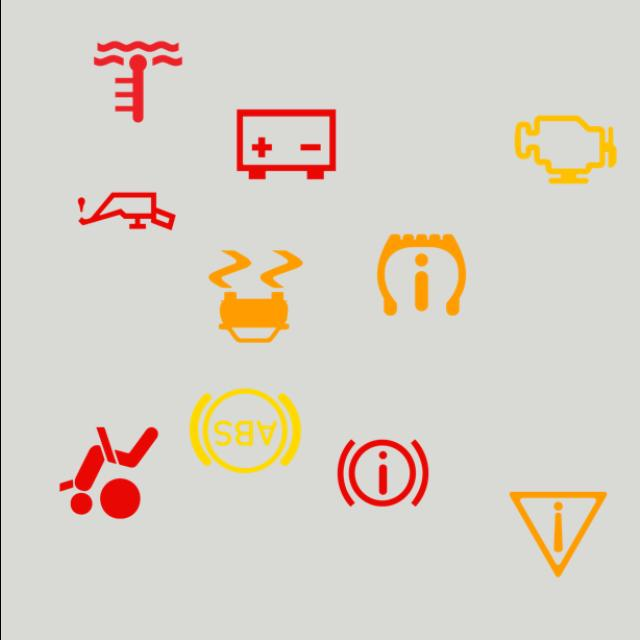Anti Lock Braking System: (184, 370, 306, 492)
Braking System Issue: (321, 412, 443, 534)
Charging System Issue: (224, 84, 346, 205)
Check Engine: (504, 88, 626, 210)
Electronic Stability Problem -ESP-: (194, 235, 316, 358)
Engine Overheating Warning Light: (76, 21, 198, 143)
Low Engine Oil Warning Light: (65, 150, 186, 272)
Low Tire Pressure Warning Light: (359, 214, 482, 336)
Master warning light: (496, 473, 618, 595)
SRS-Airbag: (47, 412, 169, 534)
